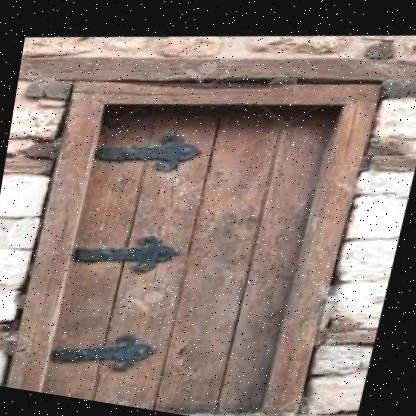door: (0, 20, 388, 416)
